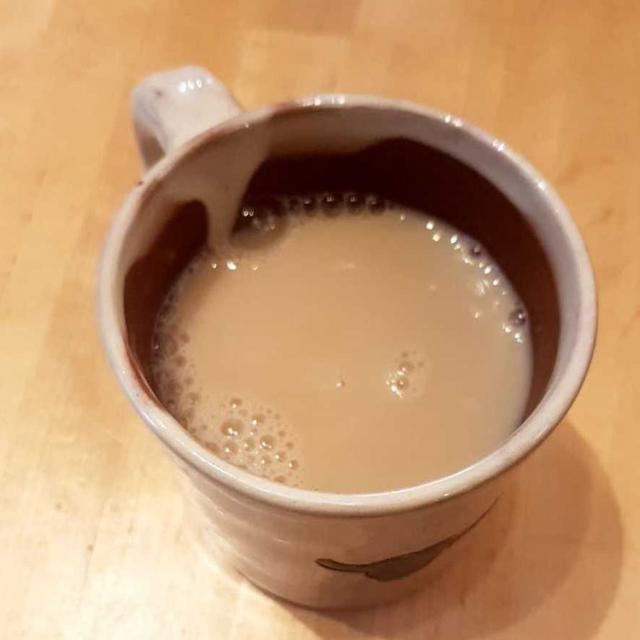tea: (146, 141, 537, 490)
